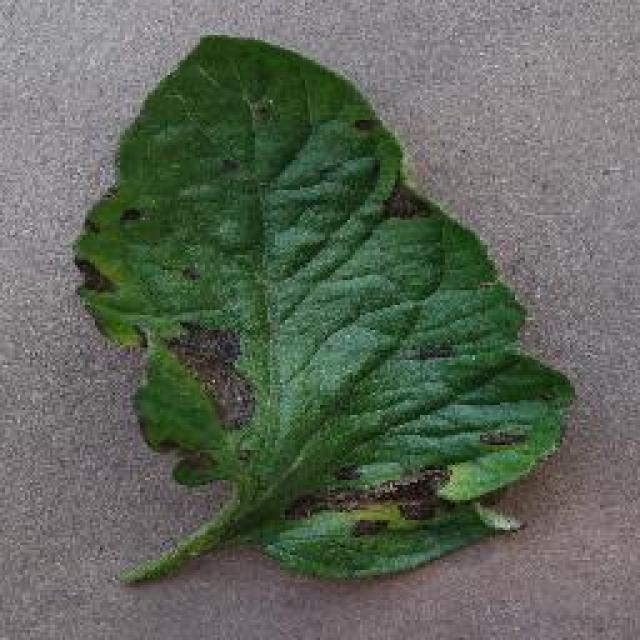Tomato Early blight leaf: (61, 51, 561, 584)
